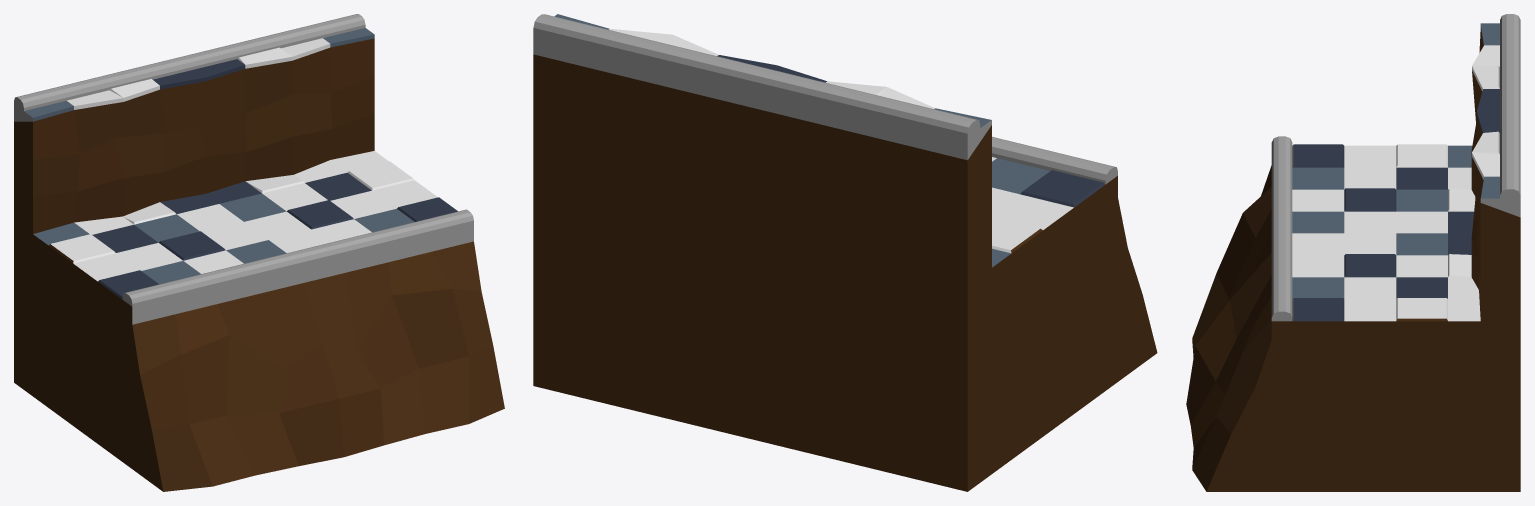
The model's file is road_break_line.fbx.
3 renders of one model, left to right at view 1: azimuth 30°, elevation 25°; view 2: azimuth 150°, elevation 25°; view 3: azimuth 270°, elevation 25°, orthographic. The views are drawn at different scales.
Parts seen in each view (by area): view 1: road_line_break_line; view 2: road_line_break_line; view 3: road_line_break_line.
Boxes of the visible parts, x1=… form: road_line_break_line: x1=14, y1=14, x2=504, y2=491; road_line_break_line: x1=533, y1=14, x2=1157, y2=491; road_line_break_line: x1=1186, y1=14, x2=1520, y2=491.
Bounding box in the file's own units: 400 × 322 × 322.
